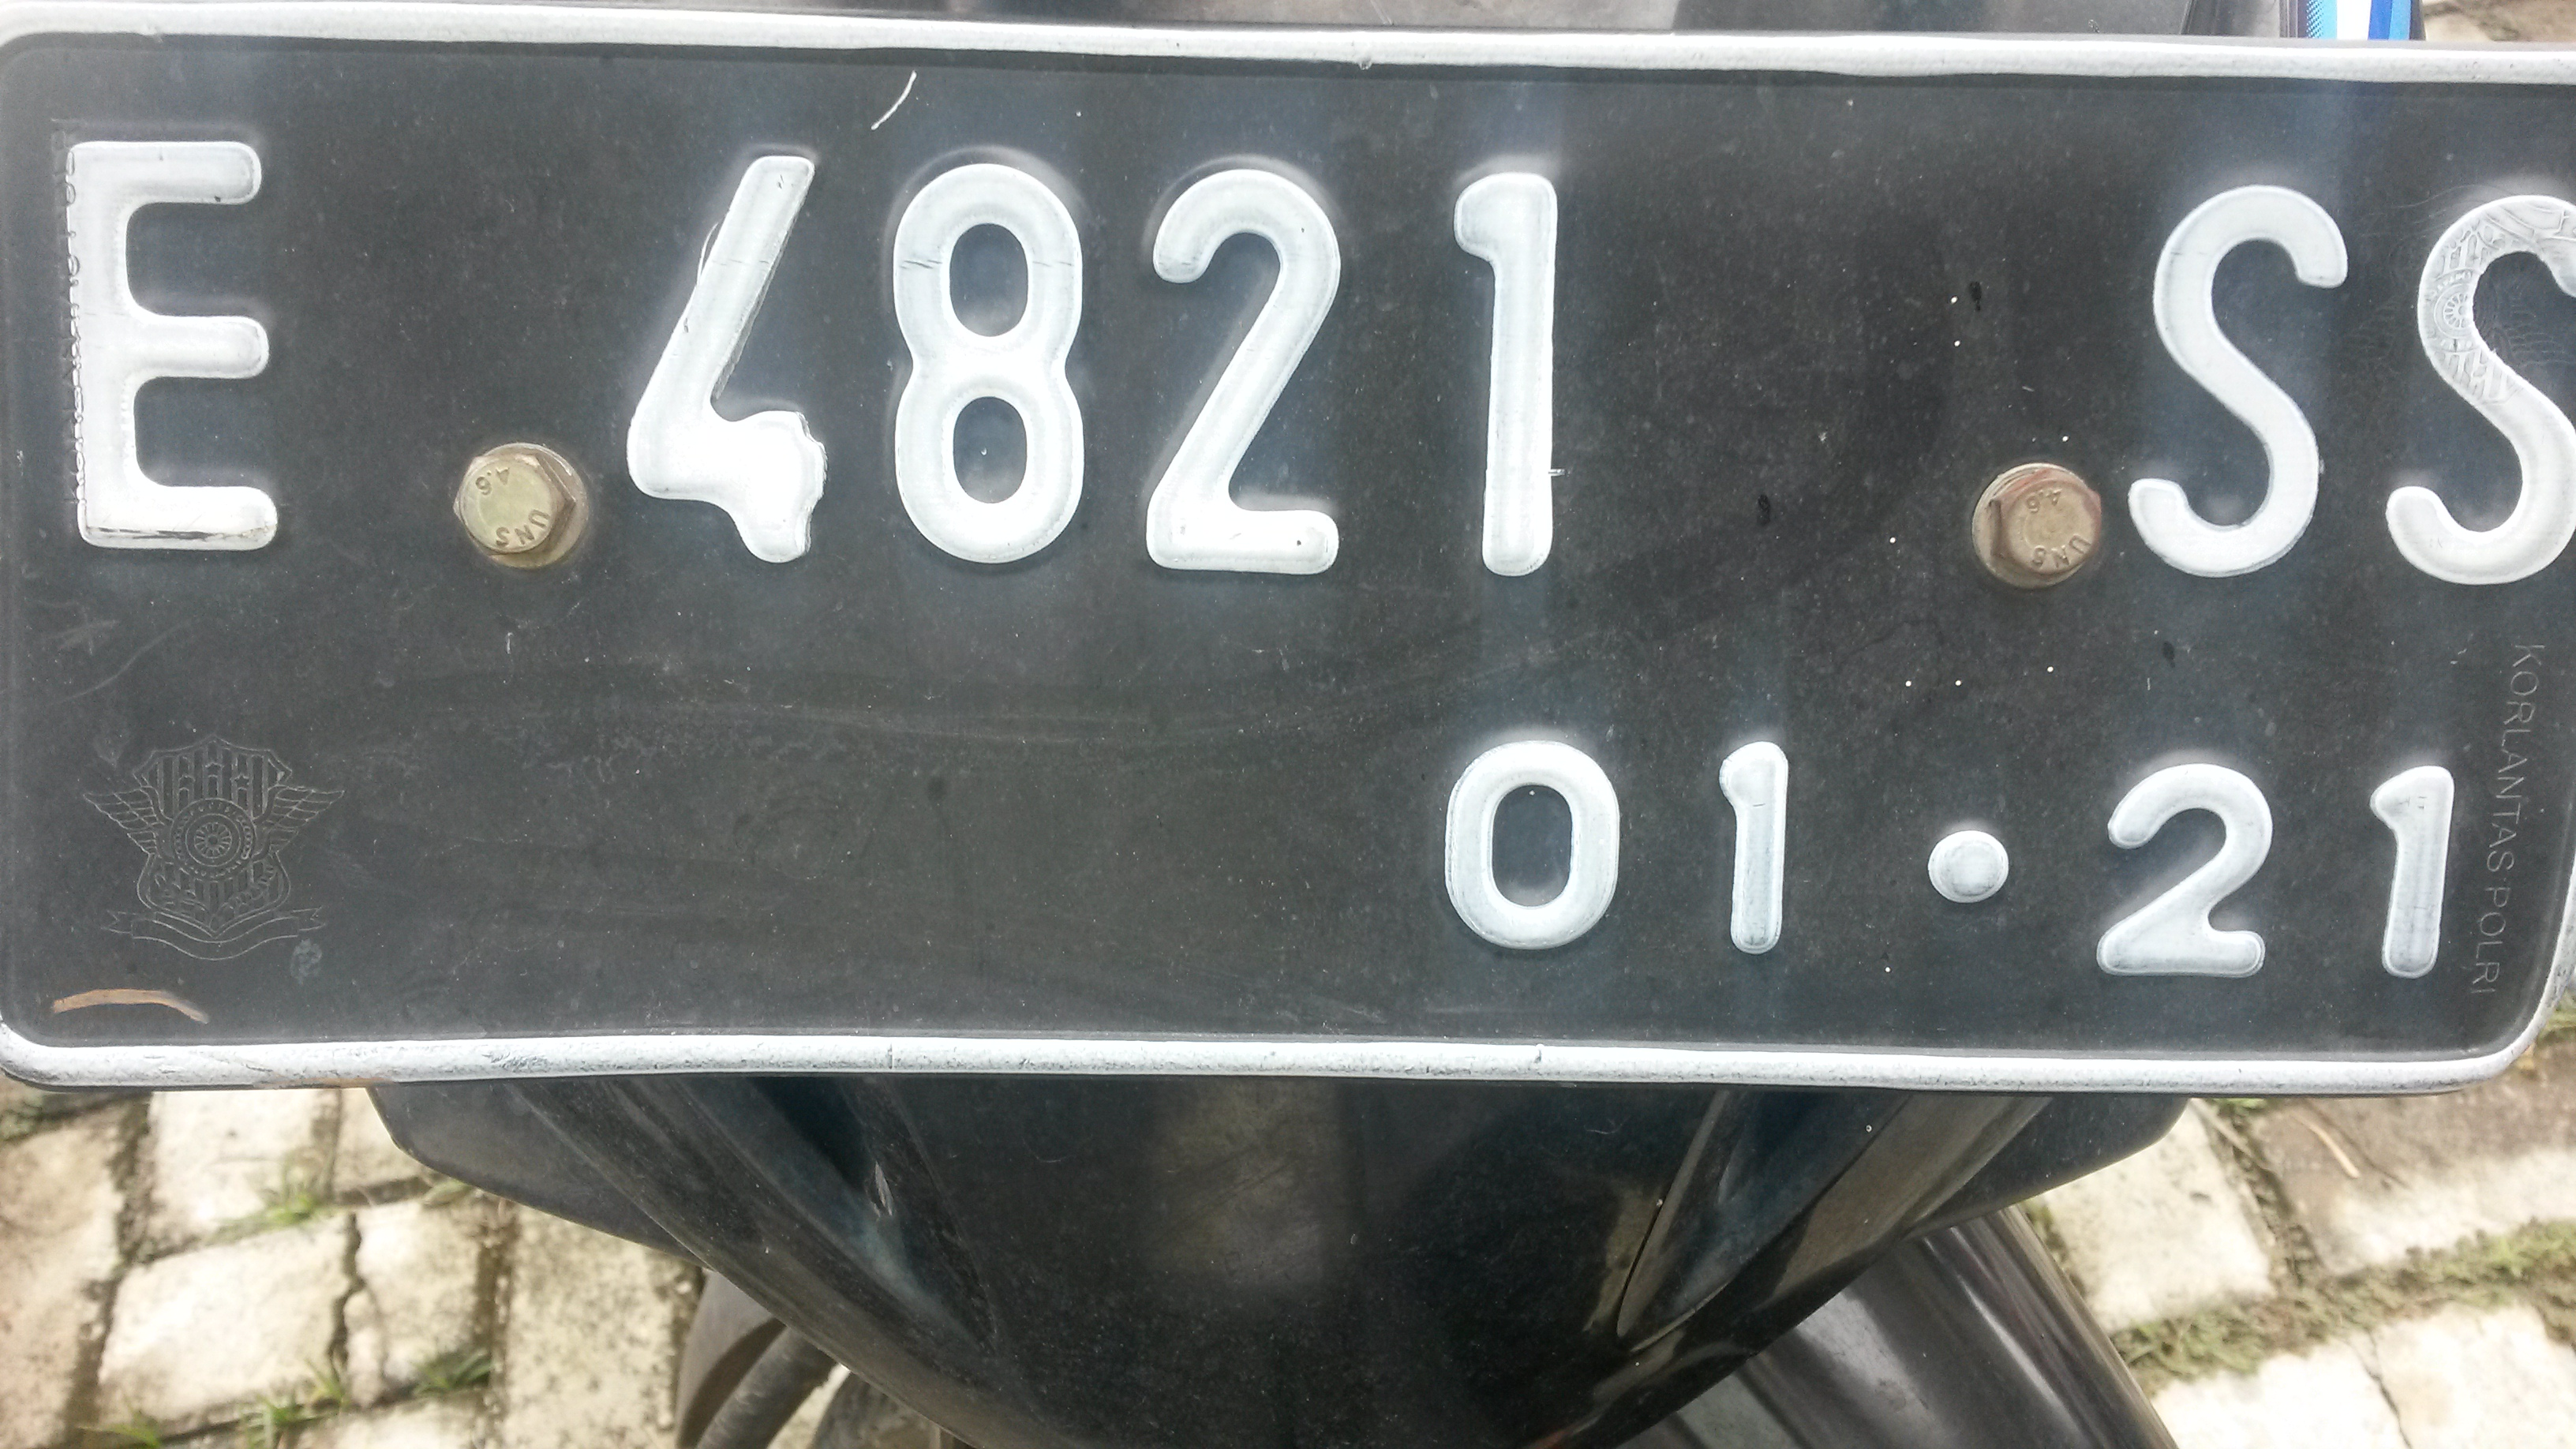plate: (1, 1, 2570, 1115)
